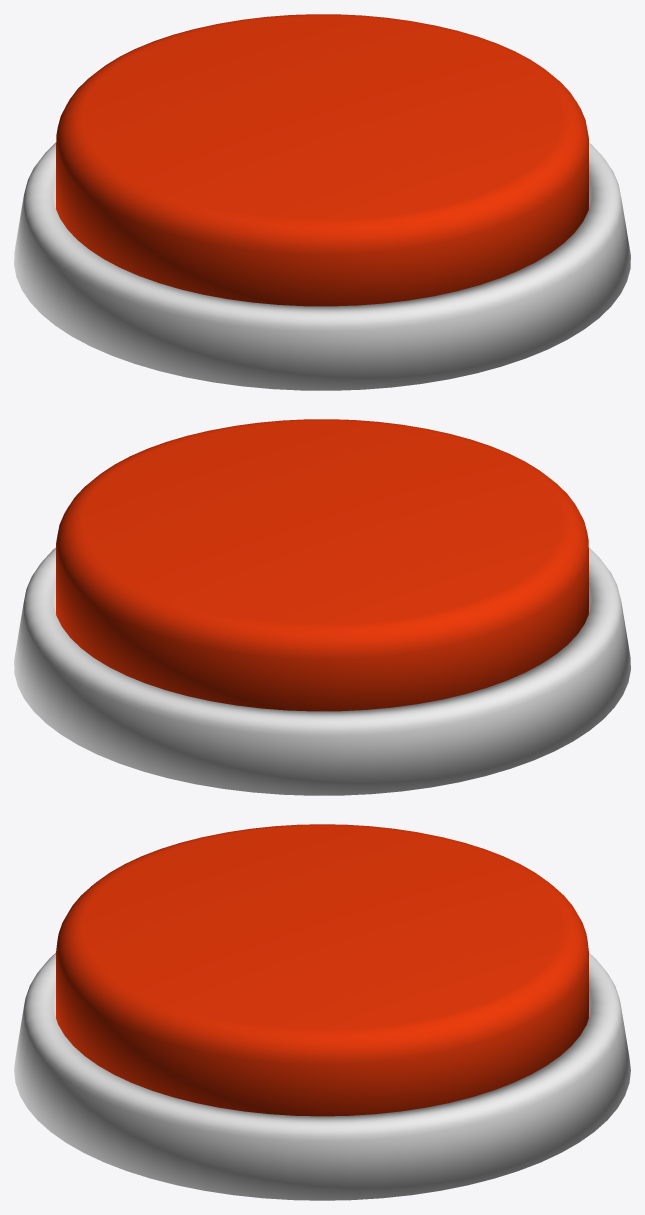
The model's file is push-button.fbx.
The picture shows the model from 3 angles, top to bottom: view 1: azimuth 30°, elevation 25°; view 2: azimuth 150°, elevation 25°; view 3: azimuth 270°, elevation 25°; orthographic projection.
Parts seen in each view (by area): view 1: Button, Button Base; view 2: Button, Button Base; view 3: Button, Button Base.
Part boxes in pixels (left/top/right/bottom): Button: left=56, top=14, right=588, bottom=306; Button Base: left=14, top=142, right=630, bottom=390; Button: left=56, top=419, right=588, bottom=711; Button Base: left=14, top=547, right=630, bottom=795; Button: left=56, top=824, right=588, bottom=1116; Button Base: left=14, top=953, right=630, bottom=1200.
Size of the model in its own units: 206 by 52.5 by 206.
